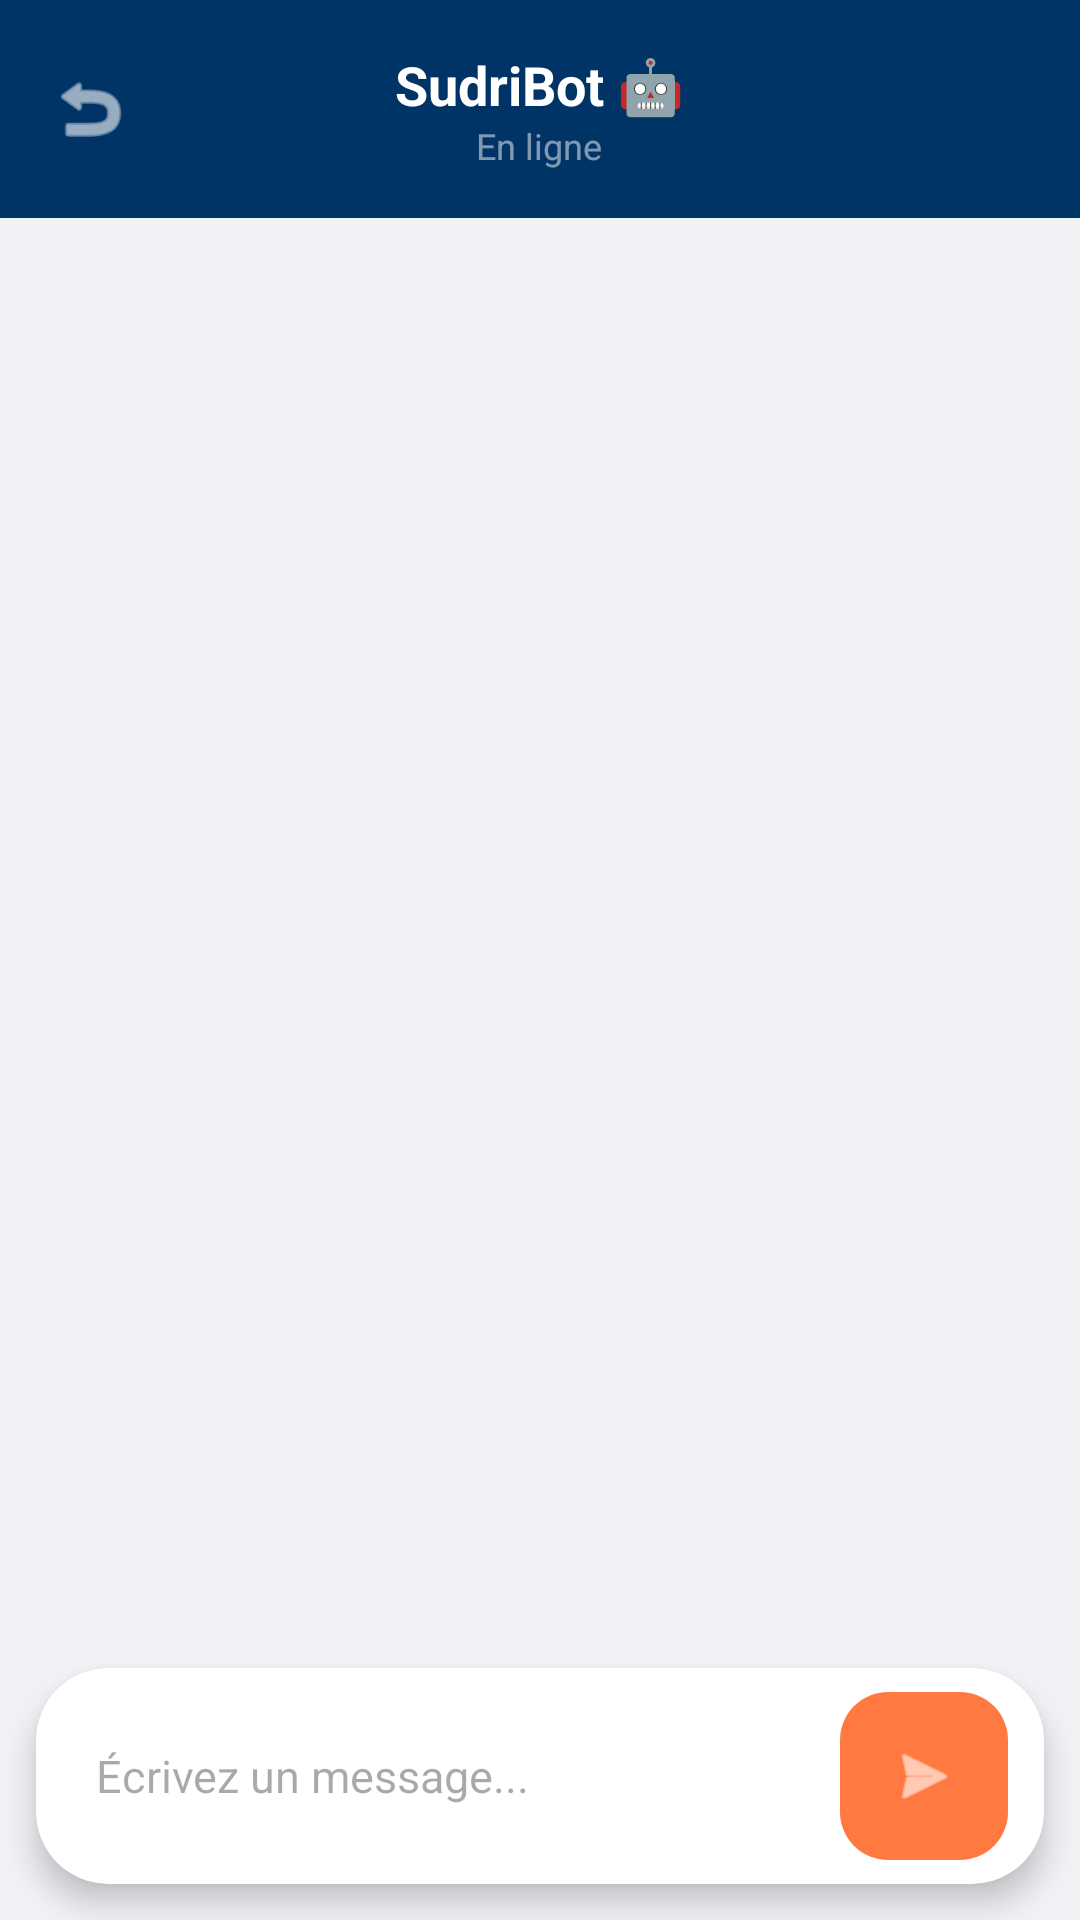

Named icons in this screenshot (1080x1920) and their centers, point (x, y):
revert: point (91, 109)
send: point (924, 1776)
